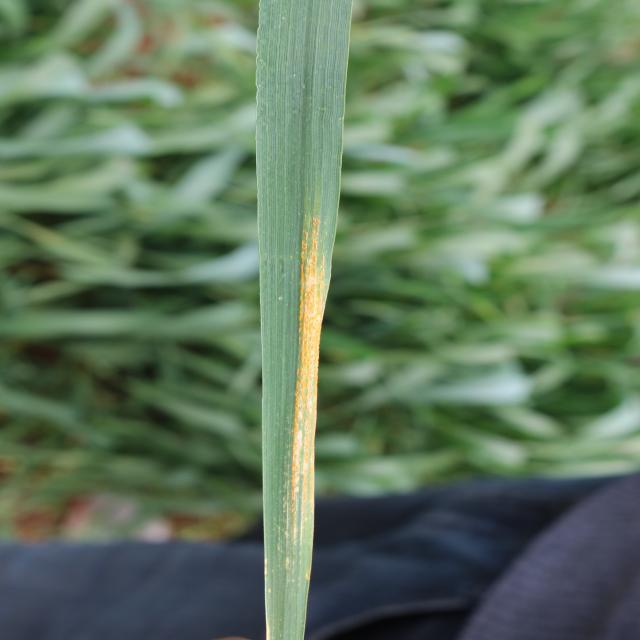Stripe Rust: (299, 216, 316, 422), (292, 424, 314, 544), (316, 252, 327, 311)
